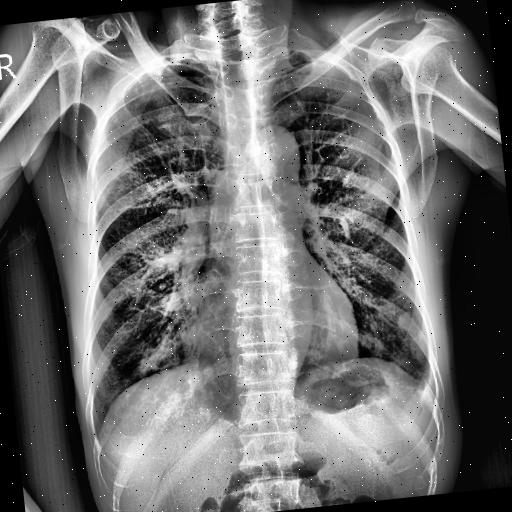0- Aortic enlargement: (248, 118, 306, 190), (250, 117, 306, 190)
10- Pleural effusion: (412, 364, 438, 406), (408, 370, 440, 404)
11- Pleural thickening: (398, 296, 441, 368), (402, 296, 436, 364), (412, 364, 438, 406), (408, 370, 440, 404), (146, 58, 192, 80), (409, 364, 436, 396)
13- Pulmonary fibrosis: (140, 257, 238, 368), (128, 276, 216, 376), (133, 299, 207, 376)
7- Lung Opacity: (140, 257, 238, 368), (128, 276, 216, 376), (396, 310, 430, 363)
